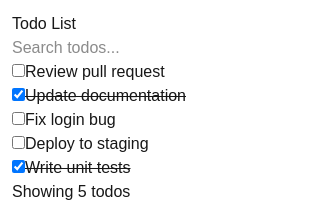
Test: TodoApp › filters todos by search
The width and height of the screenshot is (332, 217).
Type "bug" into the field with test id "search-input".
click(116, 48); type("bug")  # box [12,36,219,60]
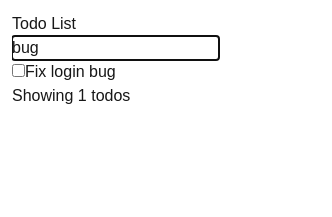
expect the text "Fix login bug" is shown: met, box [25,63,116,80]
expect the text with test id "todo-count" reads "Showing 1 todos": met, box [12,87,130,104]
